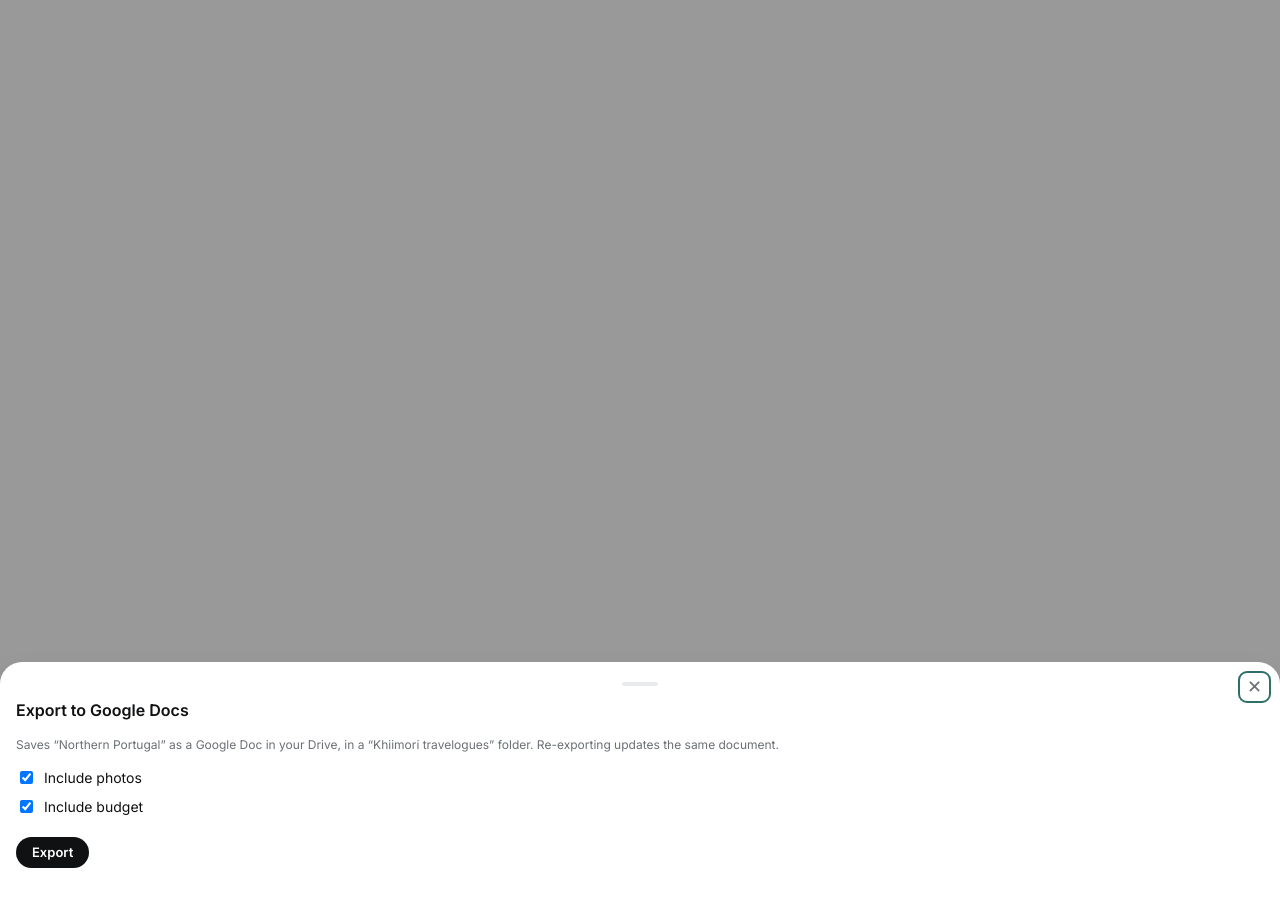
Test case: ExportDialog › shows Reconnect when the export fails with a revoked grant
The width and height of the screenshot is (1280, 900).
Click the button "Export": coordinates (53, 852) [16,837,89,868]
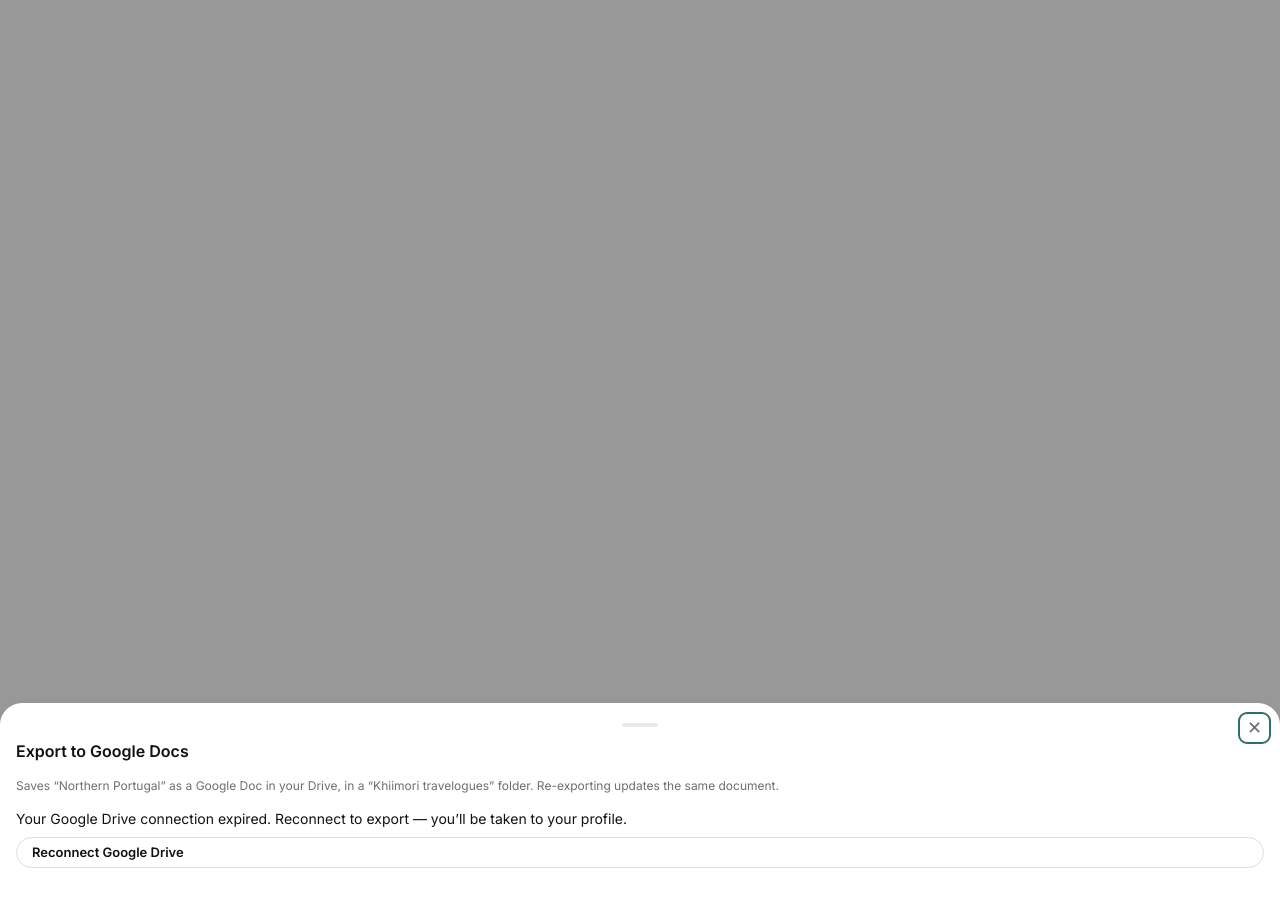
Check: the button "Reconnect Google Drive" is shown, box [16,837,1264,868]
Check: the text "connection expired" is shown, box [16,810,627,827]
